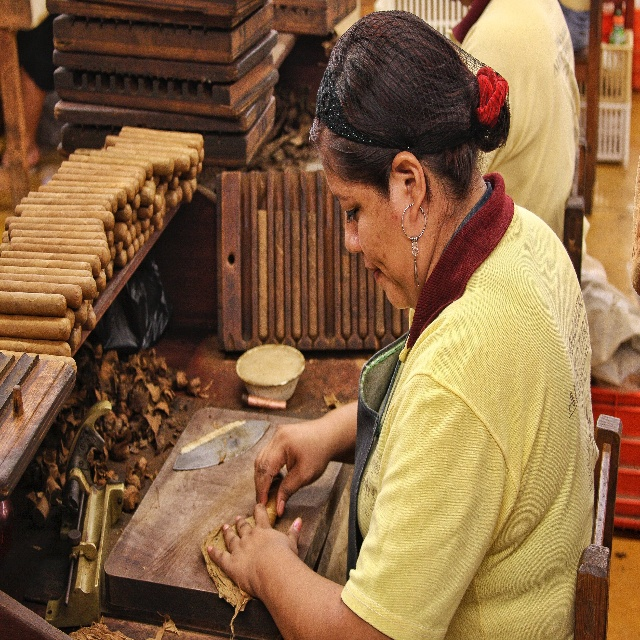Sin_guantes: (205, 503, 302, 619), (251, 418, 326, 513)
